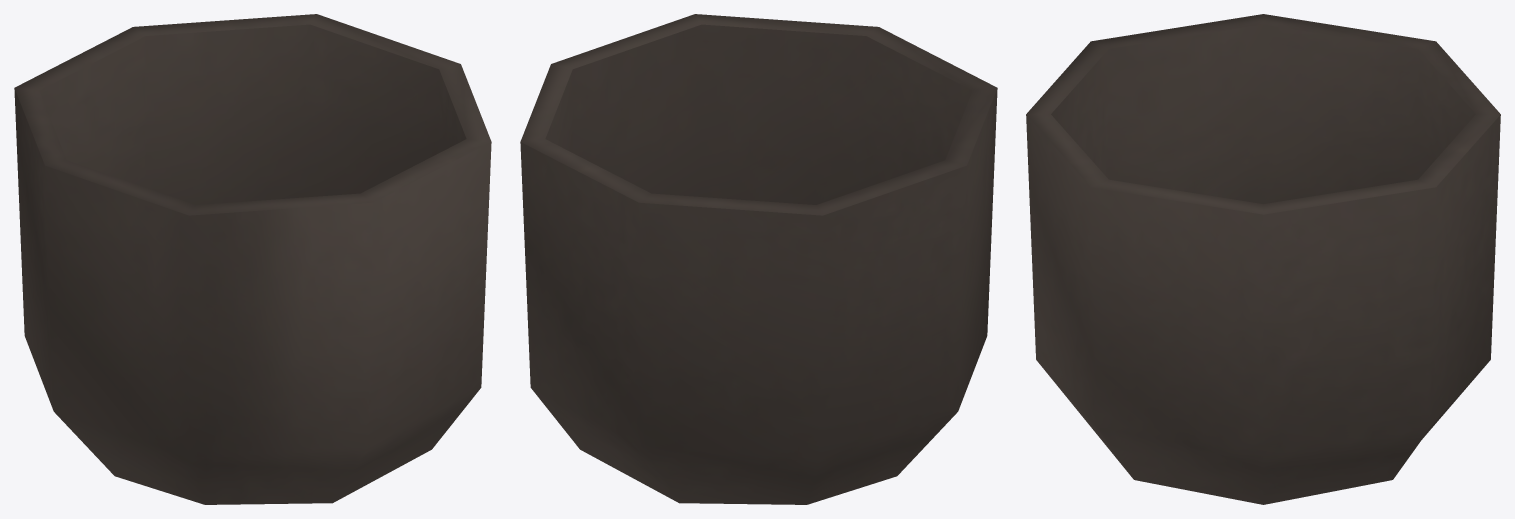
The model's file is taza.glb.
The picture shows the model from 3 angles, left to right: view 1: azimuth 30°, elevation 25°; view 2: azimuth 150°, elevation 25°; view 3: azimuth 270°, elevation 25°; orthographic projection.
Visible parts, largest first — view 1: Taza; view 2: Taza; view 3: Taza.
Part boxes in pixels (box(x1,y1,x2,y2)): Taza: box(14, 14, 491, 504); Taza: box(520, 14, 997, 504); Taza: box(1026, 14, 1500, 504).
Bounding box in the file's own units: 0.1565 × 0.124 × 0.1565.
Materials: 1 (1 with a texture image).
